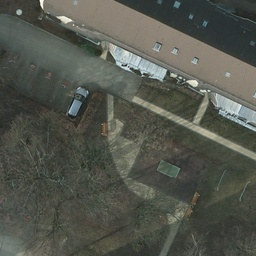car: (66, 86, 88, 118)
